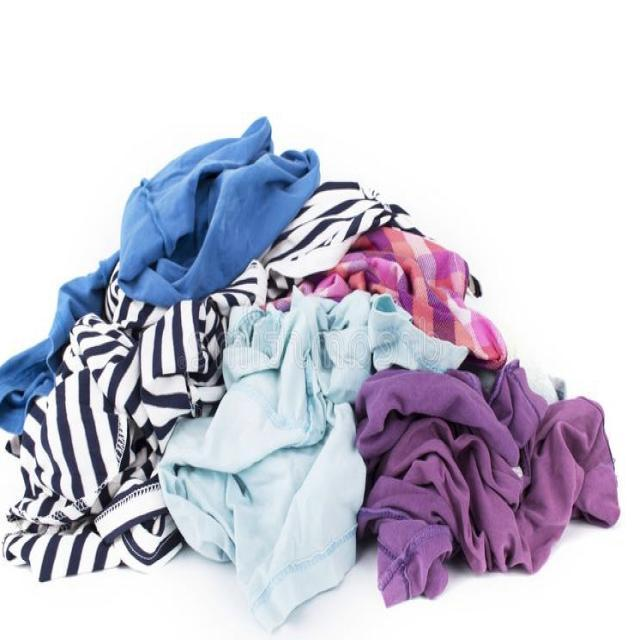clothes: (99, 264, 454, 518)
